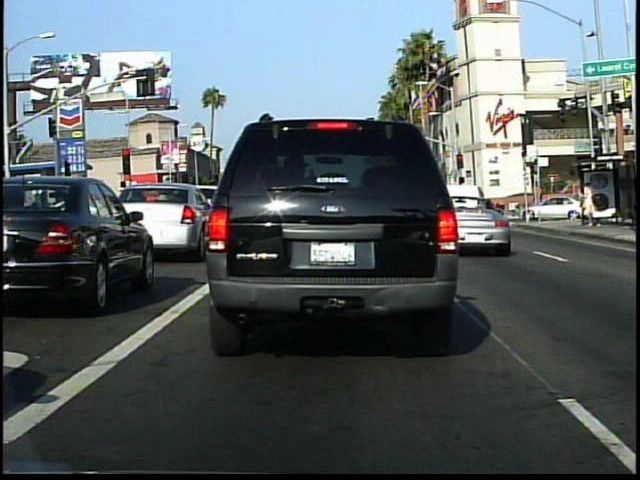person: (575, 177, 600, 230)
